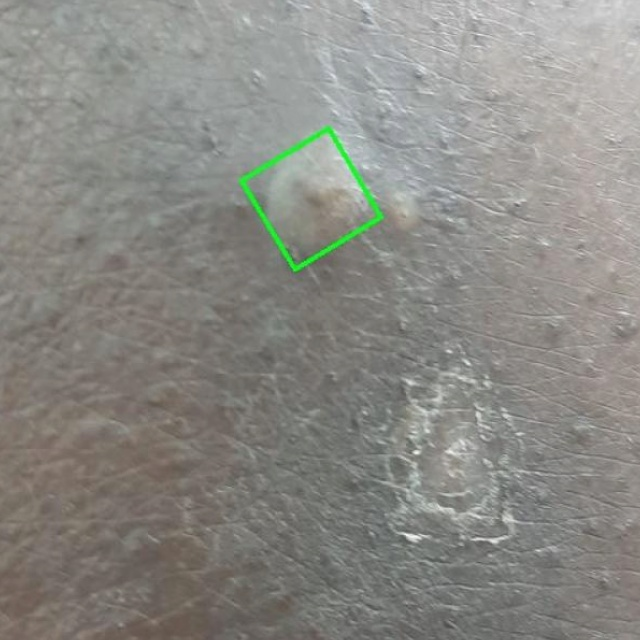Seborrheic Dermatitis: (241, 129, 381, 269)
